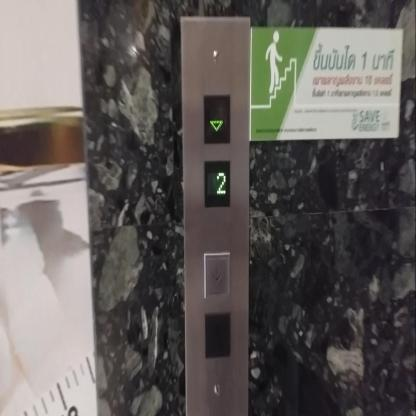down: (202, 248, 232, 302)
empty: (204, 312, 230, 359)
led: (201, 91, 232, 146), (202, 156, 233, 210)
